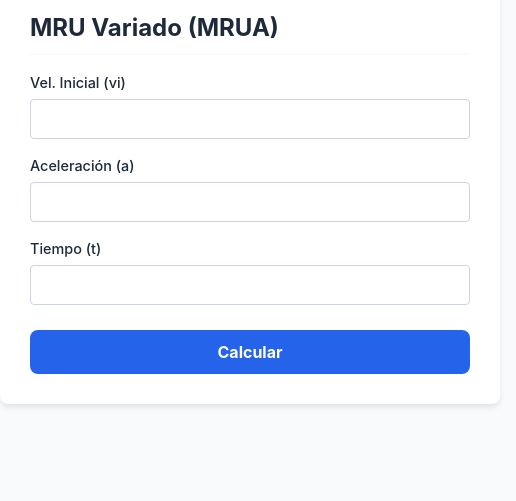
it: MRUA Component › should calculate final velocity and distance correctly
Step 1. Type "0" into the number field labelled "Vel. Inicial (vi)" → coordinates (250, 119), box [30,99,470,139]
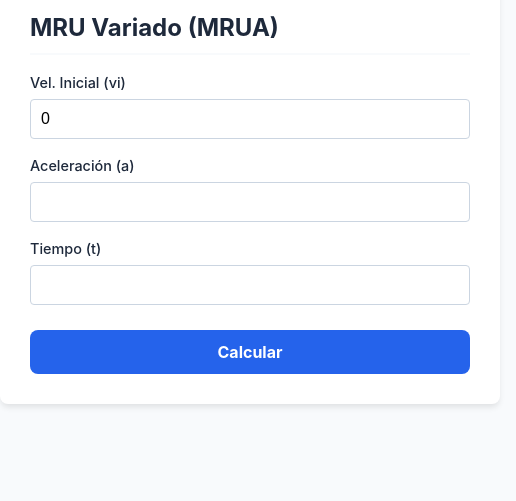
Step 2. Type "2" into the number field labelled "Aceleración (a)" → coordinates (250, 202), box [30,182,470,222]
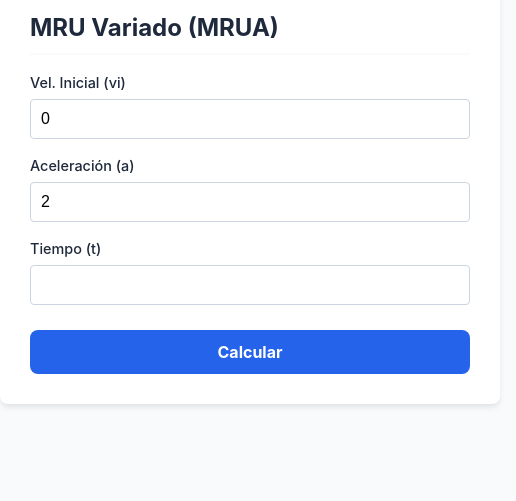
Step 3. Type "10" into the number field labelled "Tiempo (t)" → coordinates (250, 285), box [30,265,470,305]
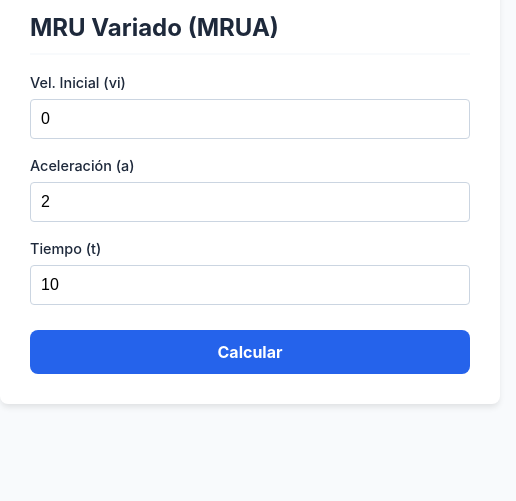
Step 4. Click the button "Calcular" → coordinates (250, 352), box [30,330,470,374]
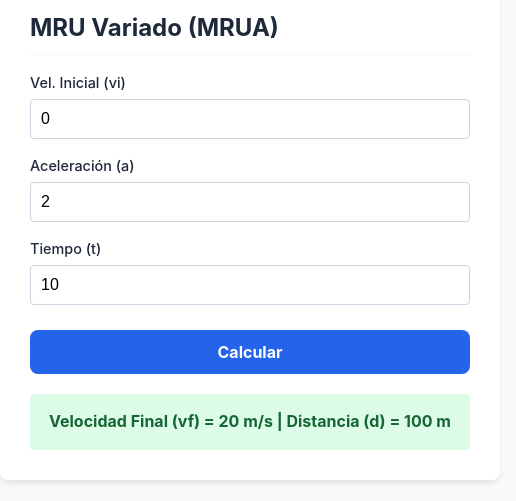
Result: the text "Velocidad Final (vf) = 20 m/s | Distancia (d) = 100 m" is shown at [30,394,470,450]
